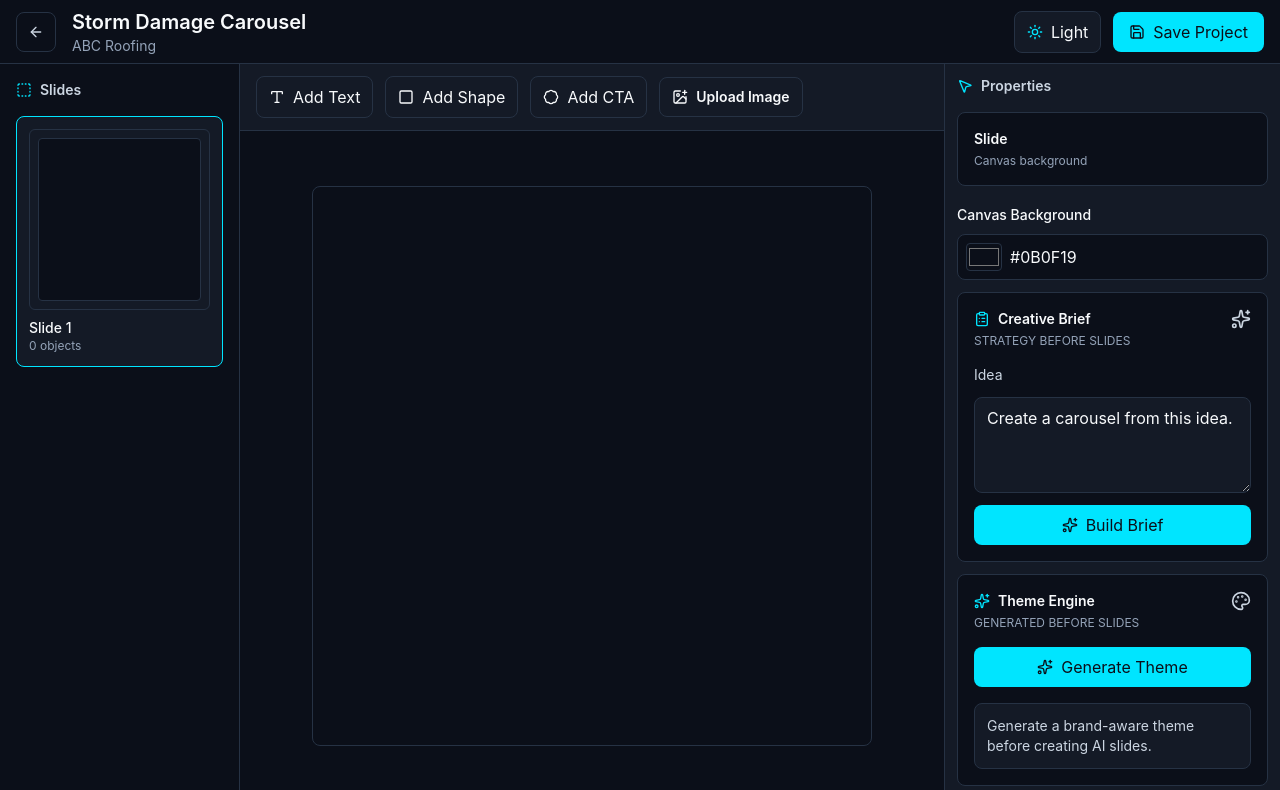
it: ProjectEditorShell › organizes properties into content, position, and style sections
What coordinates should you click on to do the following:
click the button "Add Text"
I would click on:
 (315, 97)
Its box is x1=256 y1=76 x2=374 y2=118.
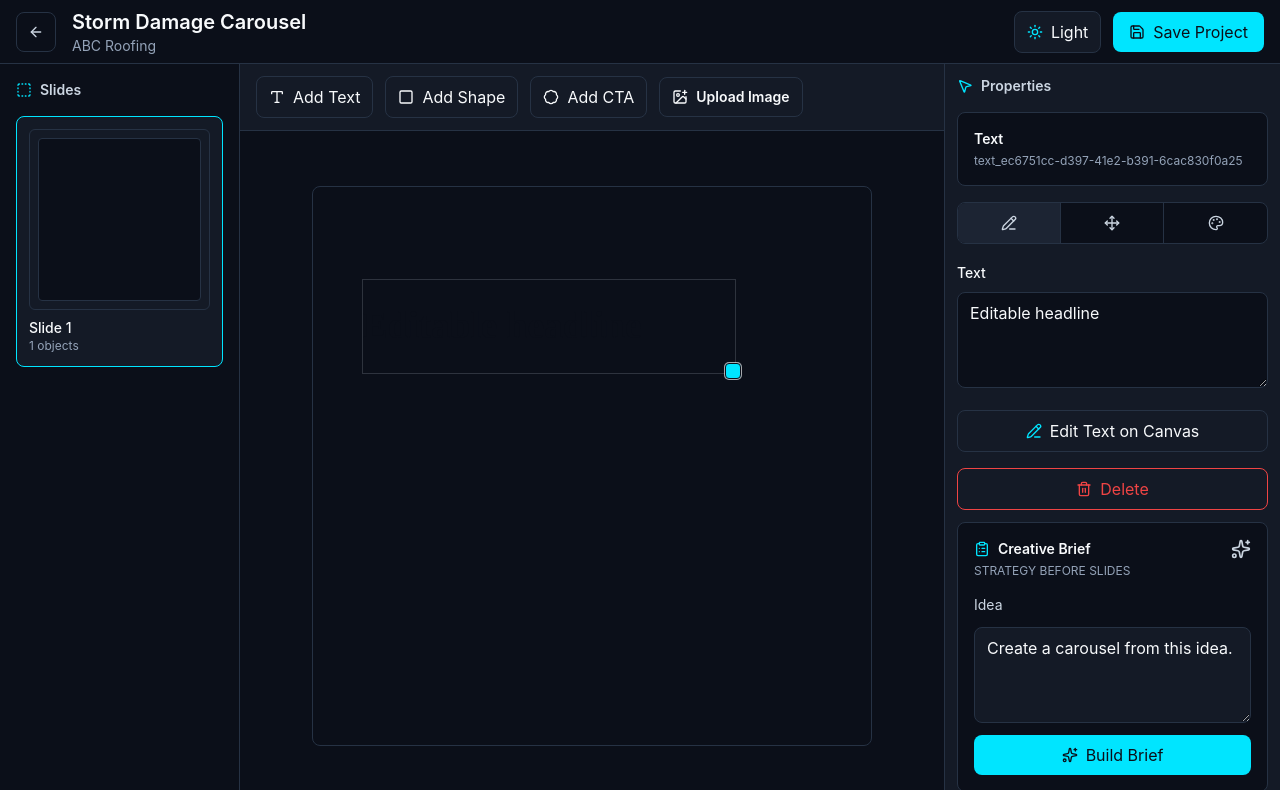
Check: the text box labelled "Text" is shown, box x1=957 y1=292 x2=1268 y2=388
What coordinates should you click on to do the following:
click the button named "Position"
I would click on:
 (1112, 223)
Its box is x1=1061 y1=203 x2=1164 y2=243.
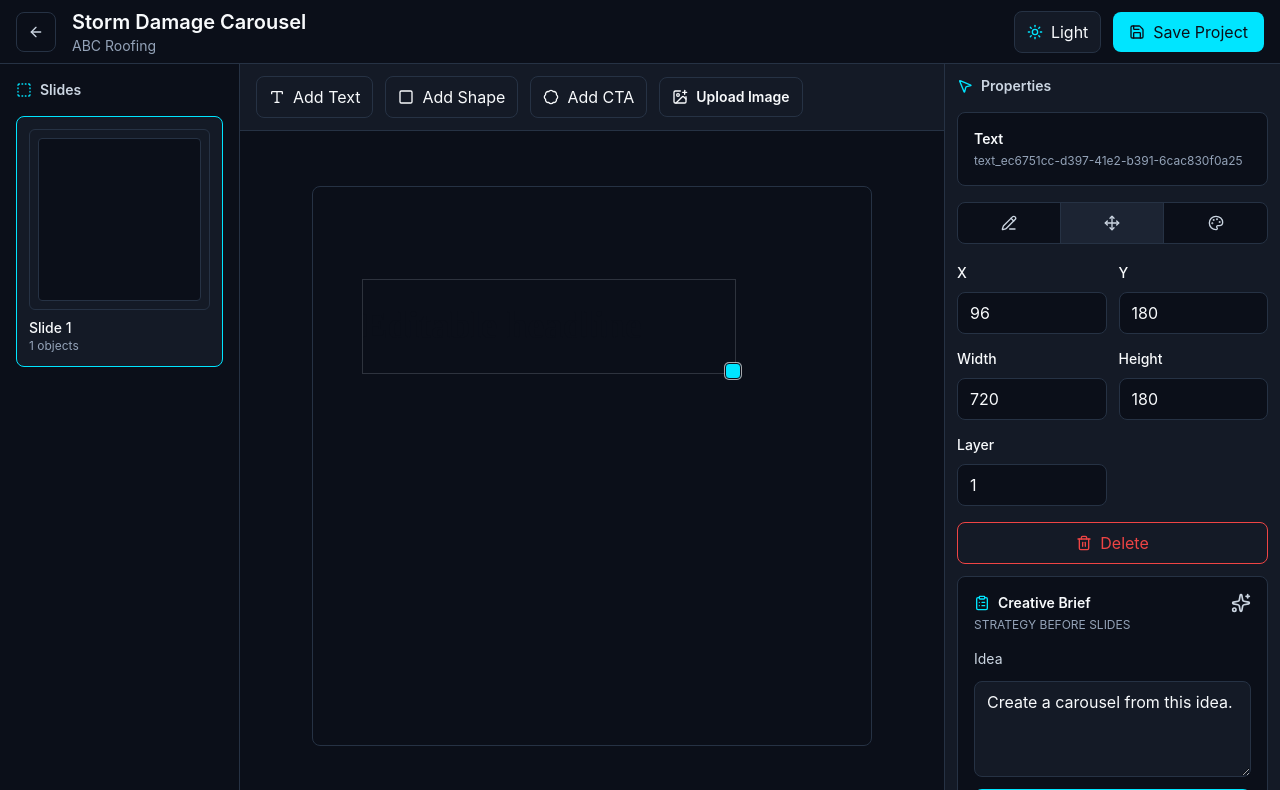
Check: the number field labelled "X" is shown, box x1=957 y1=292 x2=1106 y2=334
Check: the number field labelled "Y" is shown, box x1=1118 y1=292 x2=1268 y2=334
Check: the number field labelled "Width" is shown, box x1=957 y1=378 x2=1106 y2=420
What coordinates should you click on to do the following:
click the button named "Style"
I would click on:
 (1216, 223)
Its box is x1=1164 y1=203 x2=1267 y2=243.
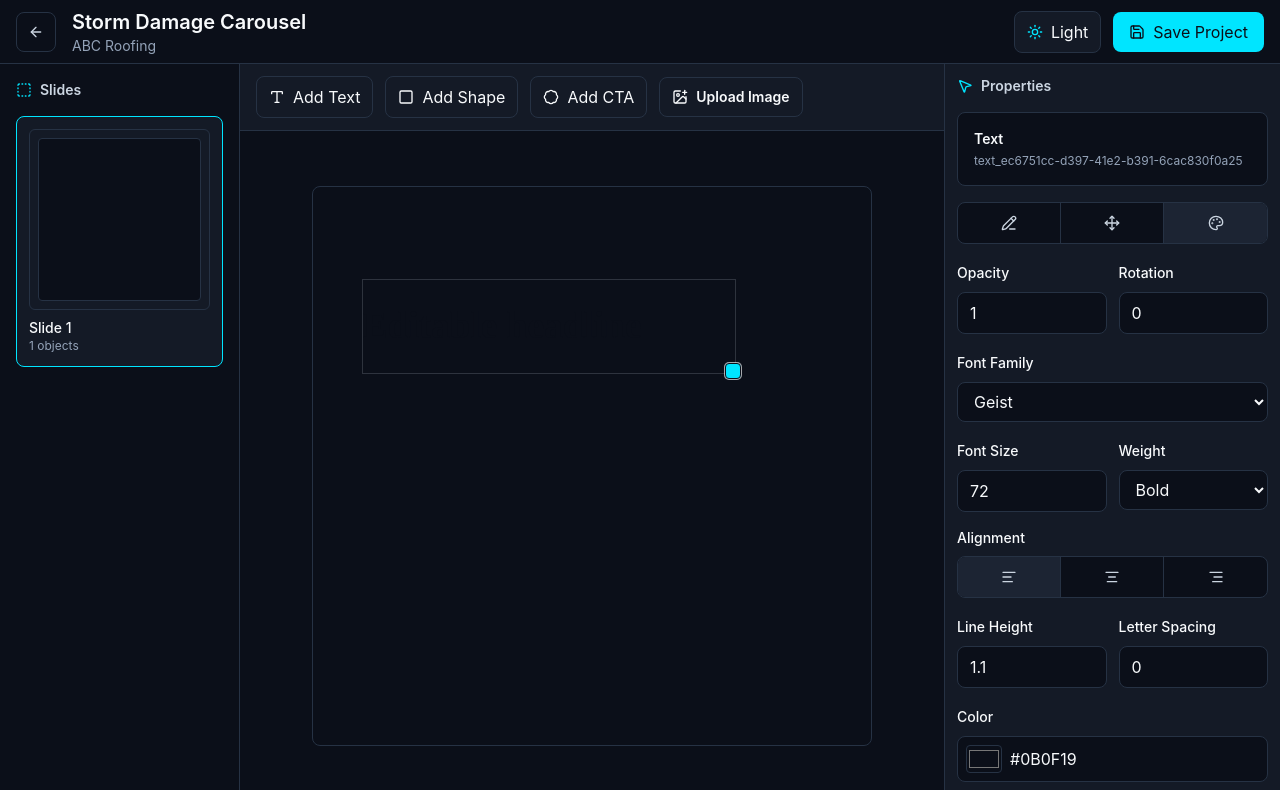
Check: the number field labelled "Opacity" is shown, box x1=957 y1=292 x2=1106 y2=334
Check: the dropdown labelled "Font Family" is shown, box x1=957 y1=382 x2=1268 y2=422
